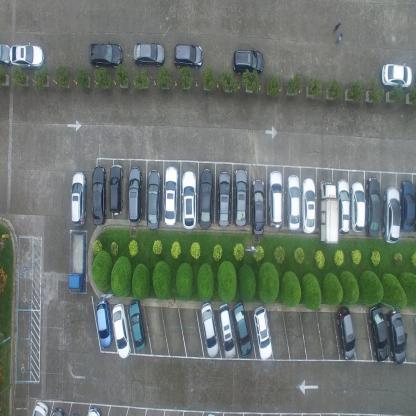car: (318, 178, 338, 244), (369, 302, 389, 362), (233, 298, 253, 356), (111, 302, 131, 360), (68, 231, 87, 292), (253, 302, 273, 358), (386, 309, 406, 364), (200, 301, 219, 357), (219, 300, 236, 359), (383, 185, 400, 244), (87, 41, 124, 68), (91, 164, 107, 226), (337, 306, 355, 361), (127, 165, 143, 224), (128, 300, 146, 352), (146, 168, 161, 230), (132, 41, 166, 68), (198, 167, 213, 228), (9, 42, 44, 68), (233, 166, 248, 226), (182, 170, 197, 230), (400, 178, 416, 234), (367, 175, 381, 239), (301, 176, 316, 235), (96, 298, 113, 350), (70, 170, 86, 225), (250, 178, 265, 236), (268, 169, 283, 227), (172, 42, 204, 69), (232, 48, 264, 74), (350, 181, 366, 233), (286, 173, 300, 231), (381, 62, 412, 88), (217, 171, 231, 228), (165, 165, 178, 226), (109, 163, 124, 214), (337, 177, 350, 234), (0, 40, 10, 66), (31, 400, 48, 415), (86, 404, 102, 415), (50, 405, 66, 415)
